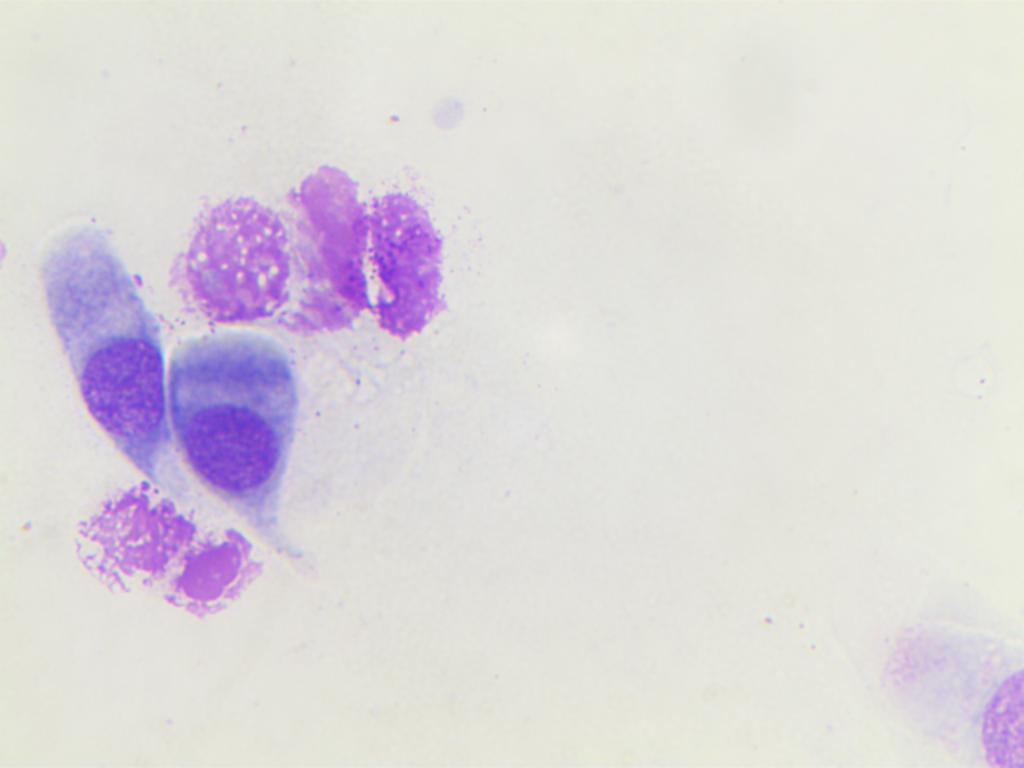artifact: (293, 151, 448, 349), (59, 481, 182, 605), (930, 616, 1024, 768), (163, 527, 272, 629)
ciliated: (28, 210, 169, 475), (171, 327, 299, 500)
epithelial: (165, 192, 296, 330)
